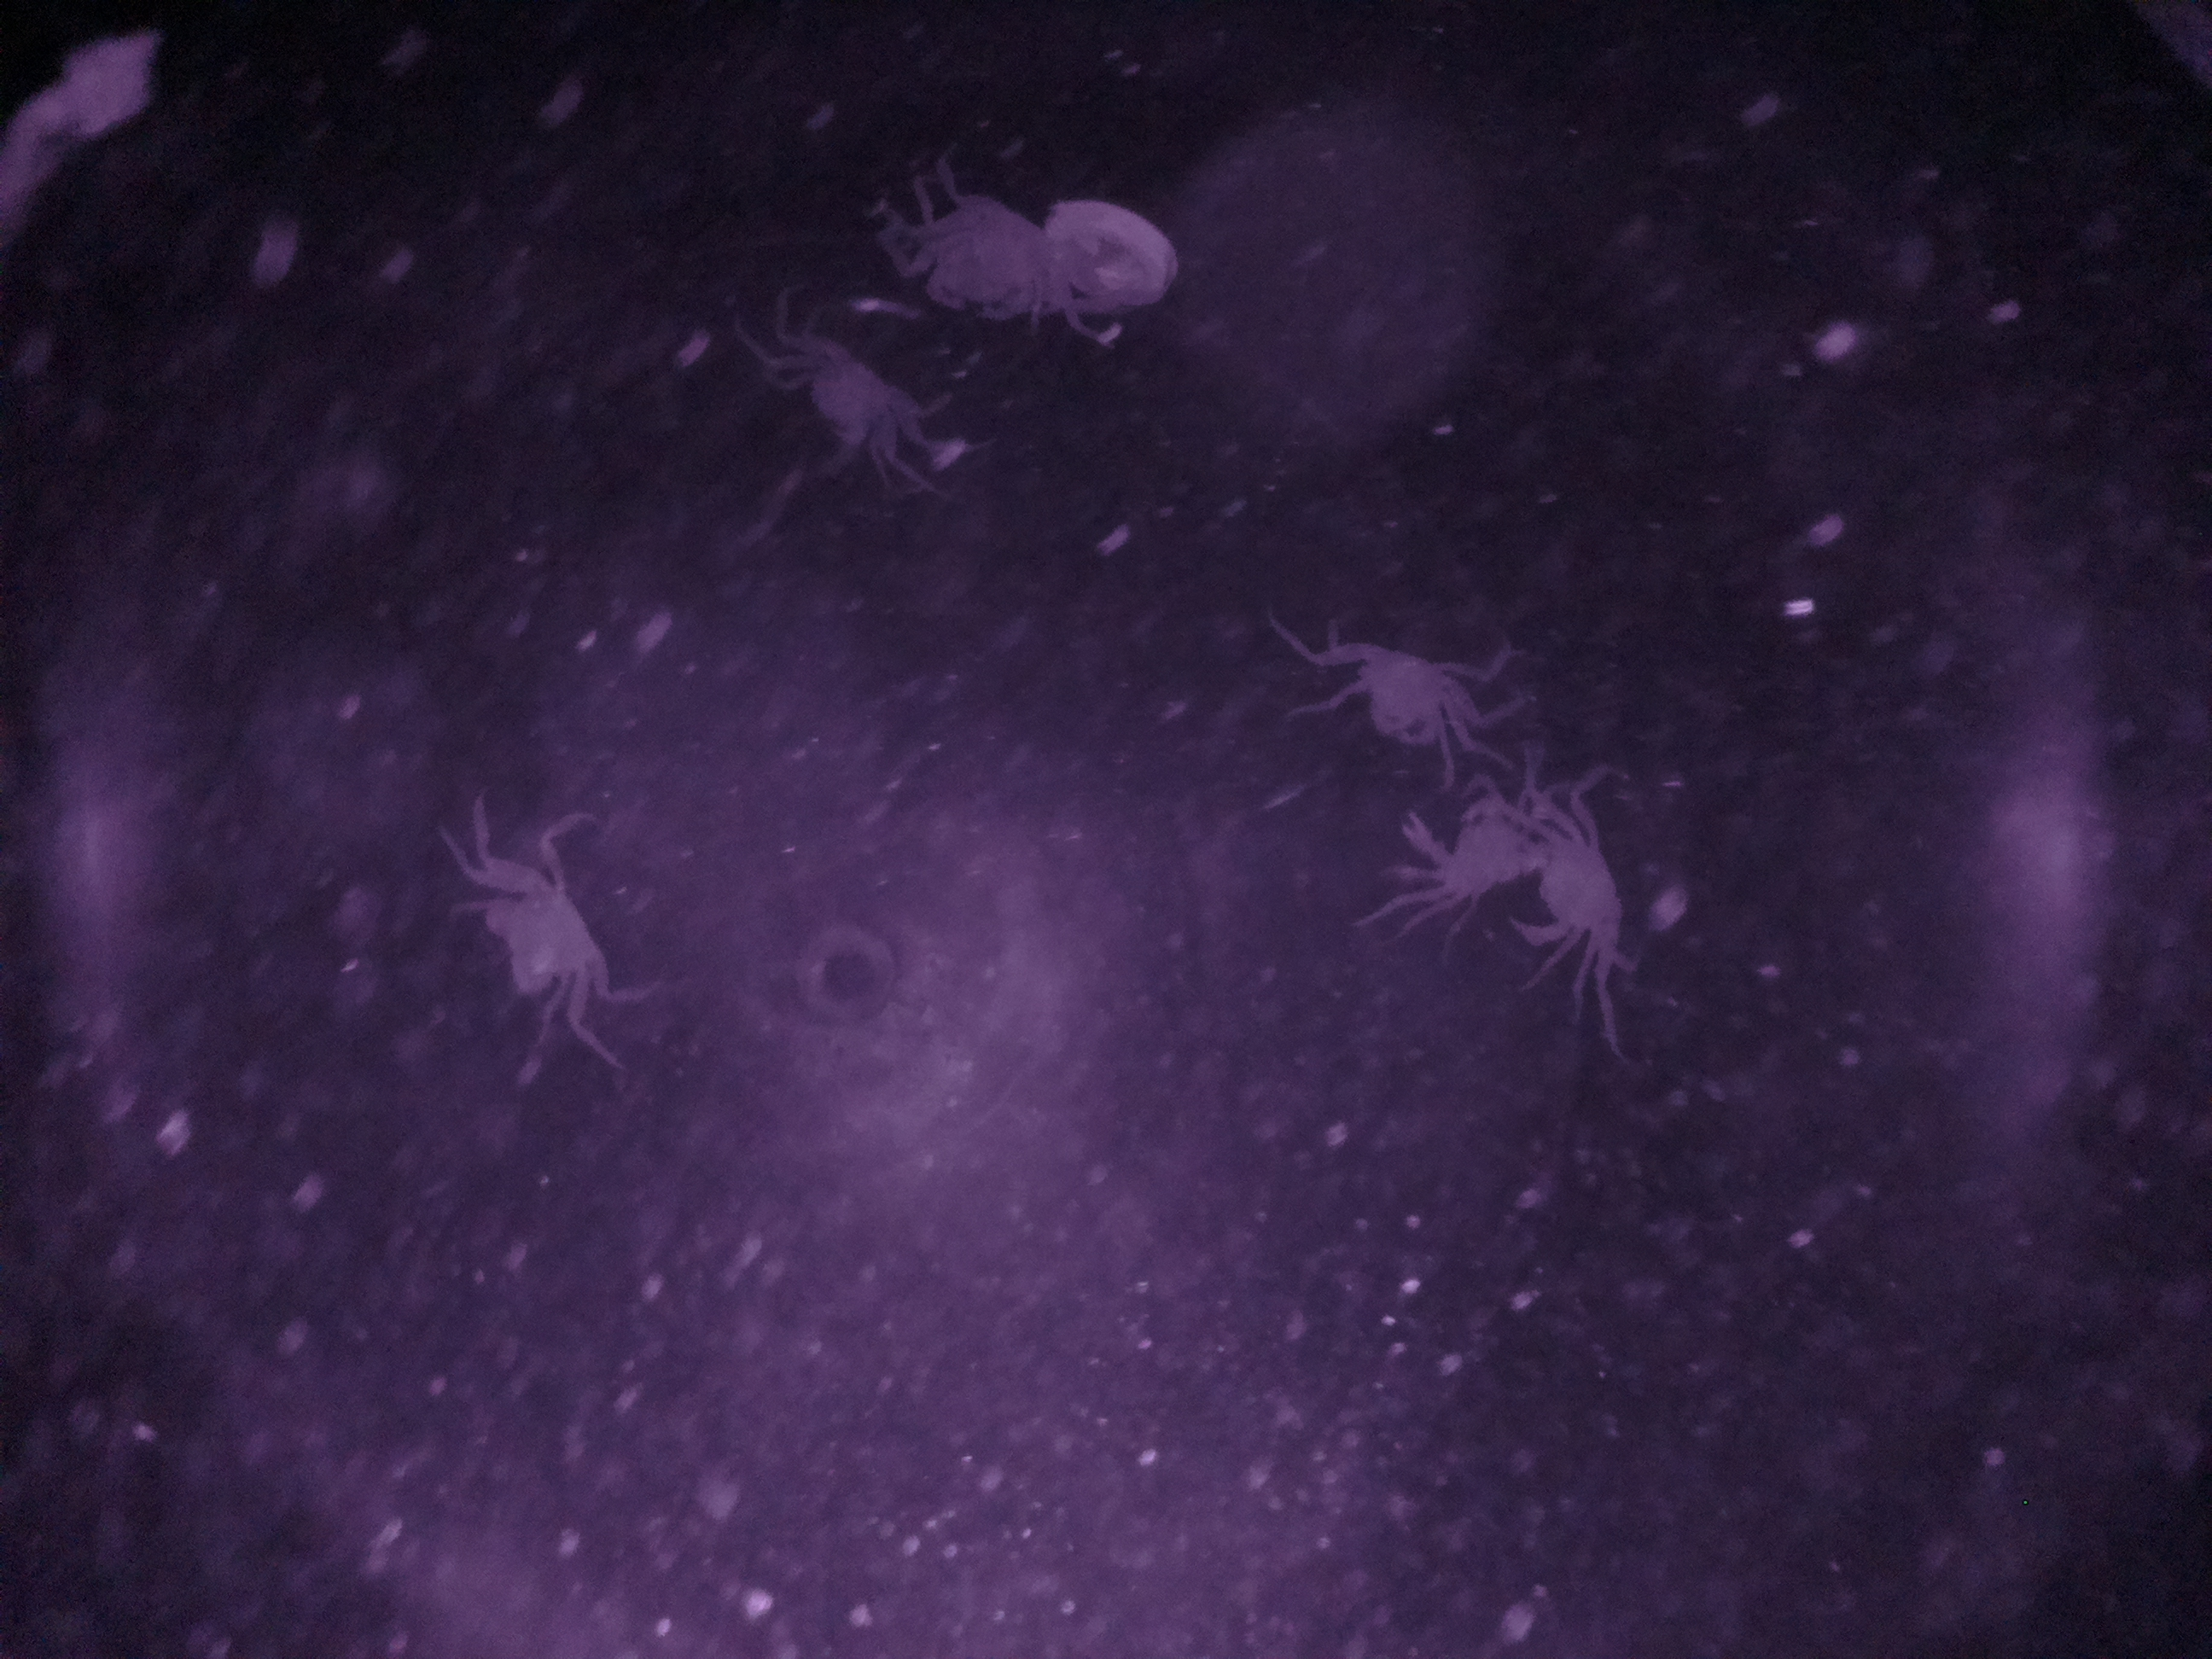Crab: (456, 831, 644, 1032), (1299, 636, 1493, 753), (1517, 796, 1644, 971)
